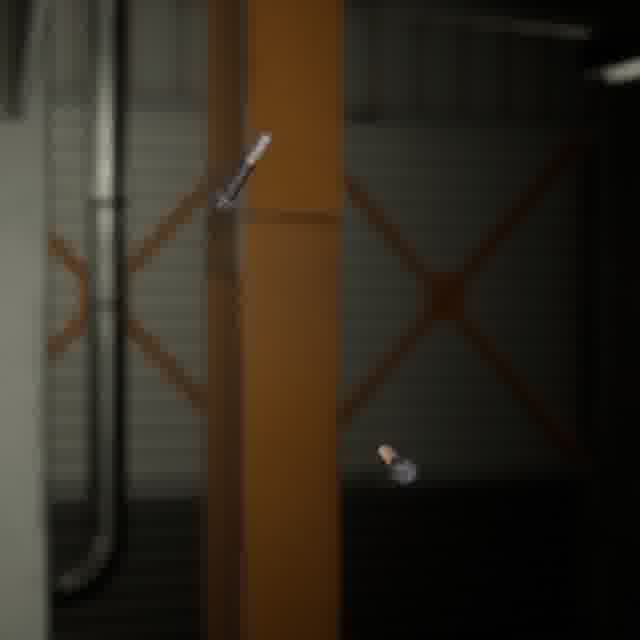bolt: (205, 126, 278, 217), (374, 440, 422, 490)
